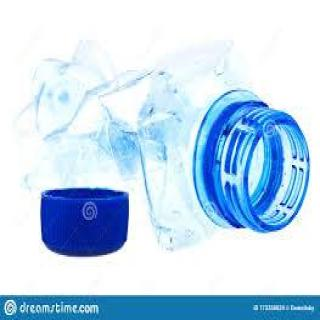Plastic-bottle: (7, 36, 313, 258)
